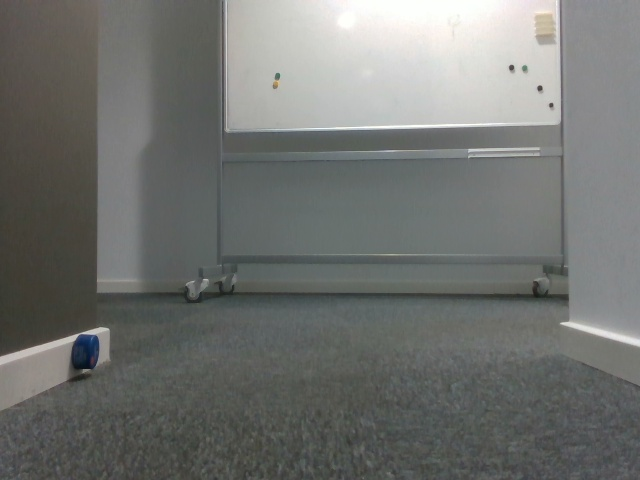alfa: (70, 332, 101, 372)
